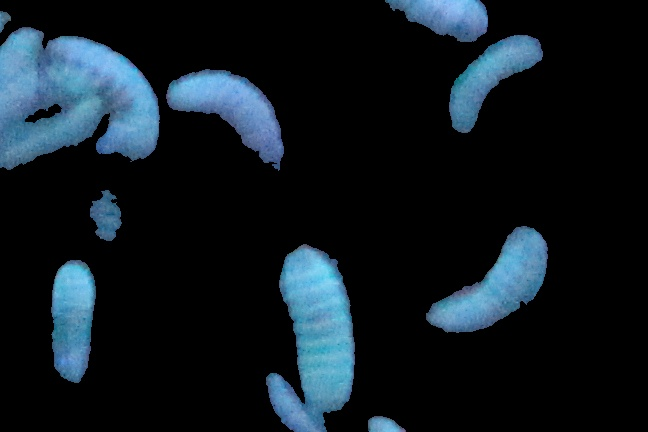larvae: (50, 18, 161, 165), (425, 221, 556, 341), (279, 239, 361, 409), (161, 62, 284, 165), (447, 36, 547, 141), (41, 257, 100, 387), (339, 1, 485, 38), (258, 372, 331, 432)
